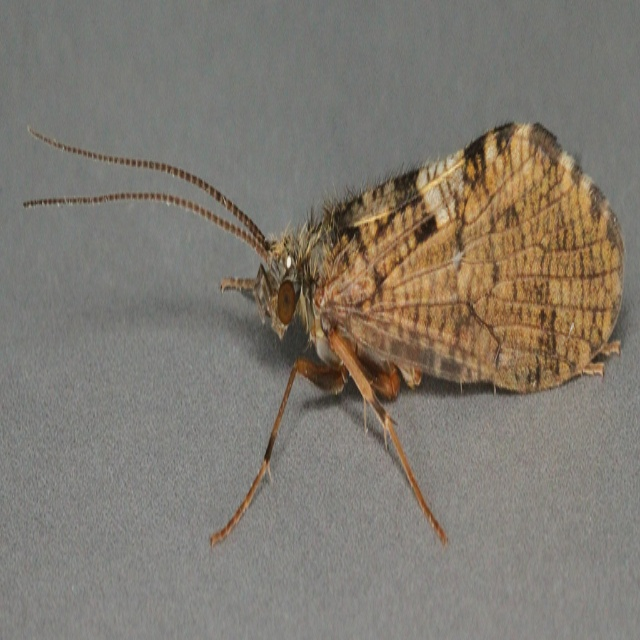Moths and butterflies: (23, 124, 628, 559)
